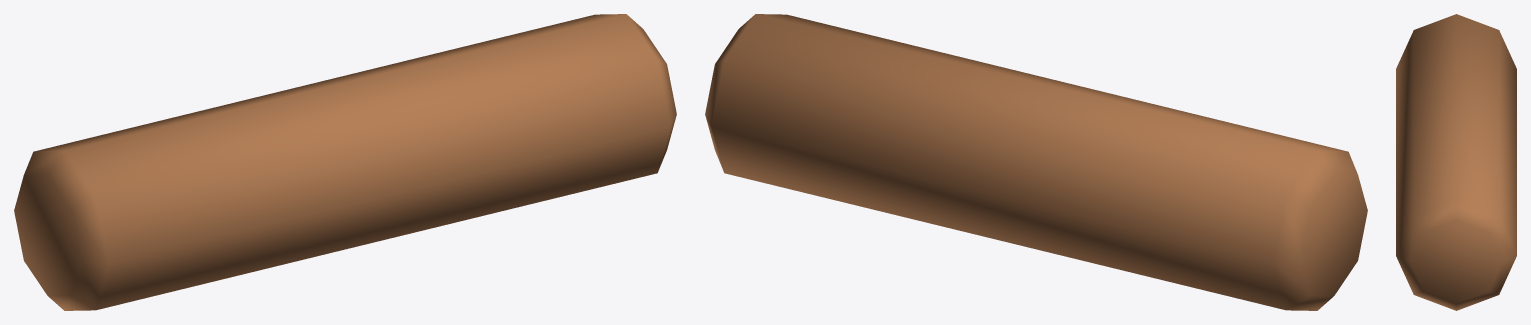
Rendered from Platform04.fbx.
3 views of the same model, side by side, from view 1: azimuth 30°, elevation 25°; view 2: azimuth 150°, elevation 25°; view 3: azimuth 270°, elevation 25° (orthographic). The views are drawn at different scales.
Parts seen in each view (by area): view 1: Log_Platform; view 2: Log_Platform; view 3: Log_Platform.
Boxes of the visible parts, x1,y1,x2,y2 form: Log_Platform: (14,14,676,310); Log_Platform: (705,14,1367,310); Log_Platform: (1396,14,1516,310).
Size of the model in its own units: 174 by 44.69 by 44.69.
